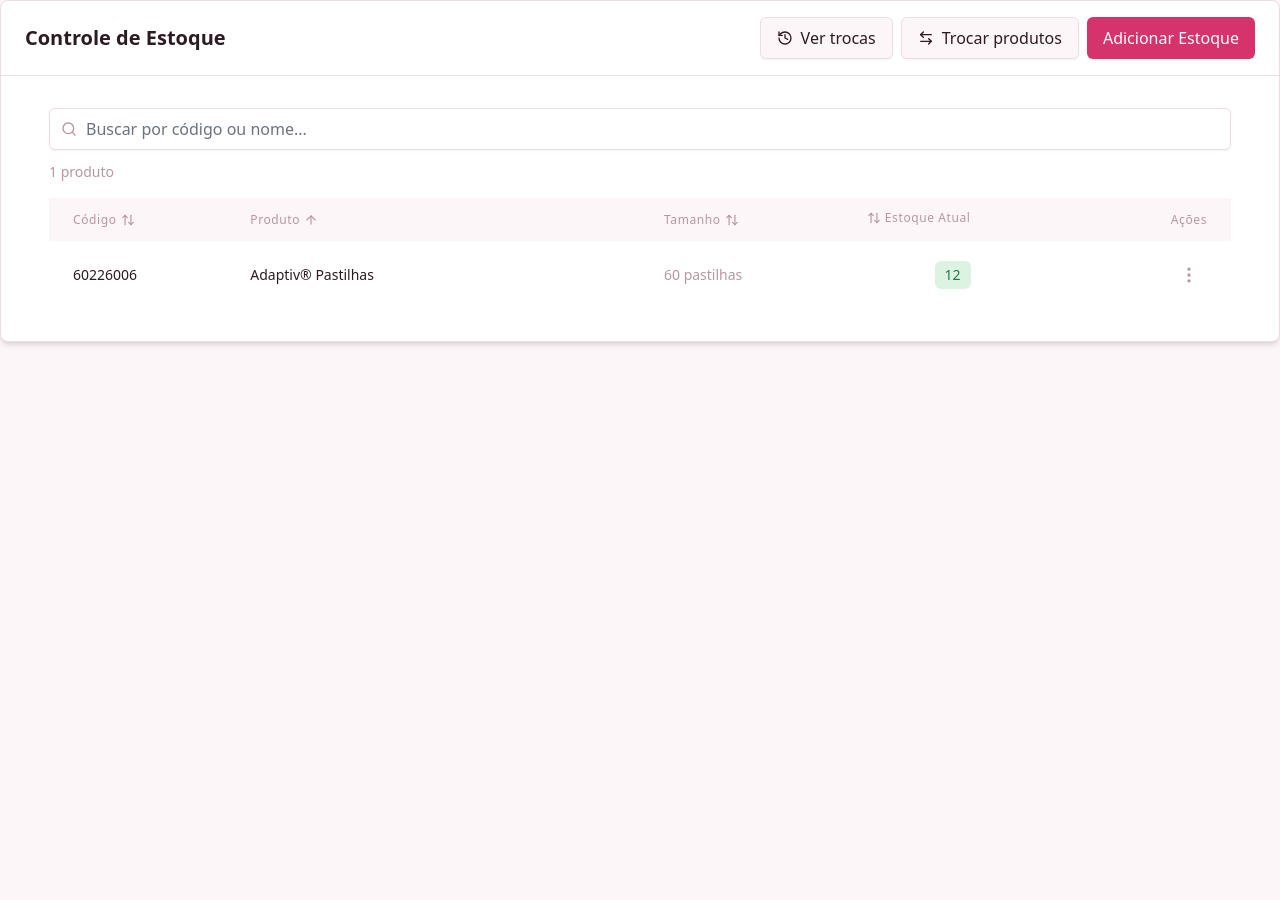
Test: StockPage › MovementDialog › should open with type "Saída" pre-selected when clicking "Nova Saída"
Click the button with test id "stock-actions-11111111-1111-1111-1111-111111111111-trigger". click: (1189, 275)
box: [1171,257,1207,293]
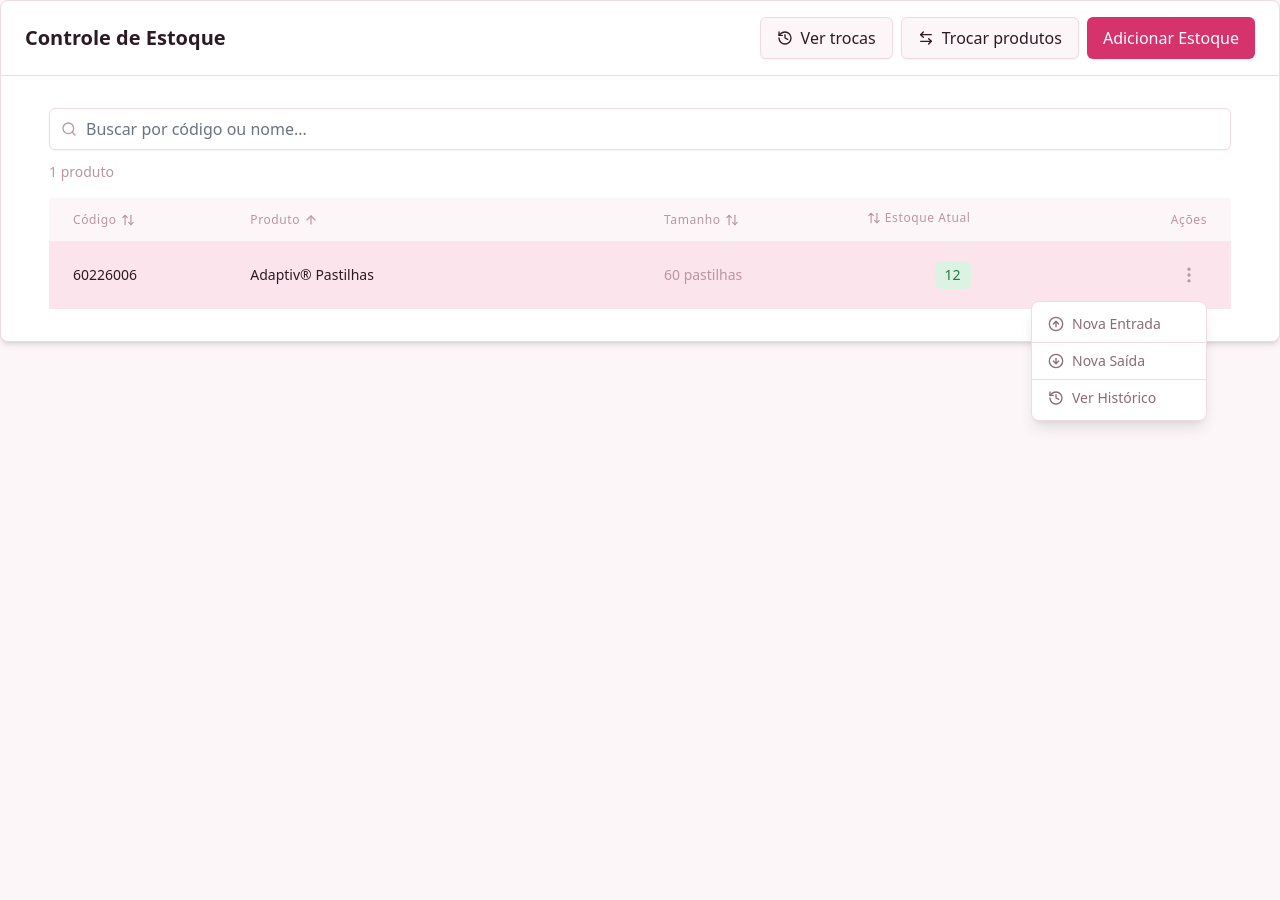
expect the menu with test id "stock-actions-11111111-1111-1111-1111-111111111111-menu" is shown: met, box [1031,301,1207,421]
Click the menu item with test id "stock-actions-11111111-1111-1111-1111-111111111111-item-Nova-Saida". click: (1119, 360)
box: [1032,342,1206,379]
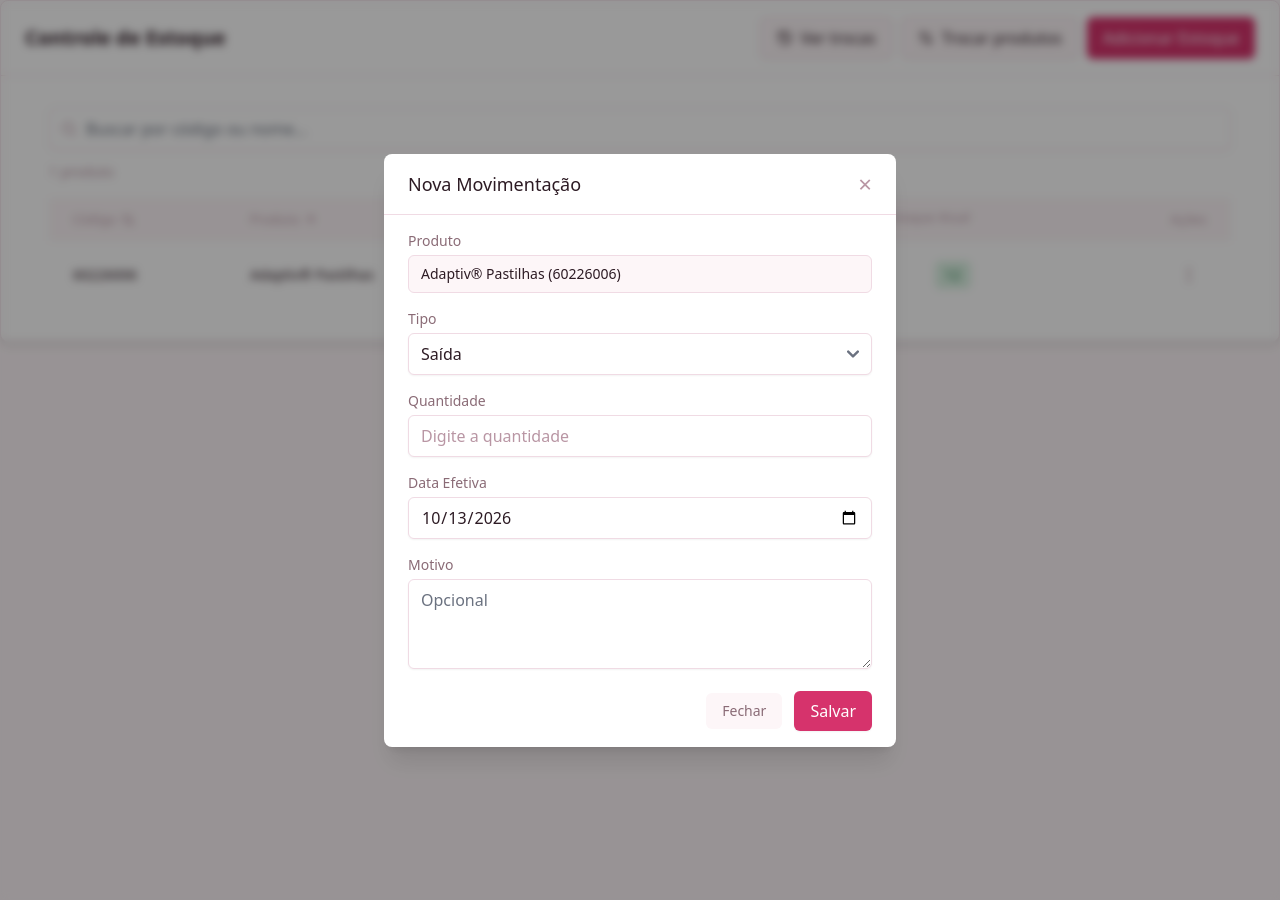
expect the dropdown named "Tipo" shows "Saída": met, box [408,332,872,374]
